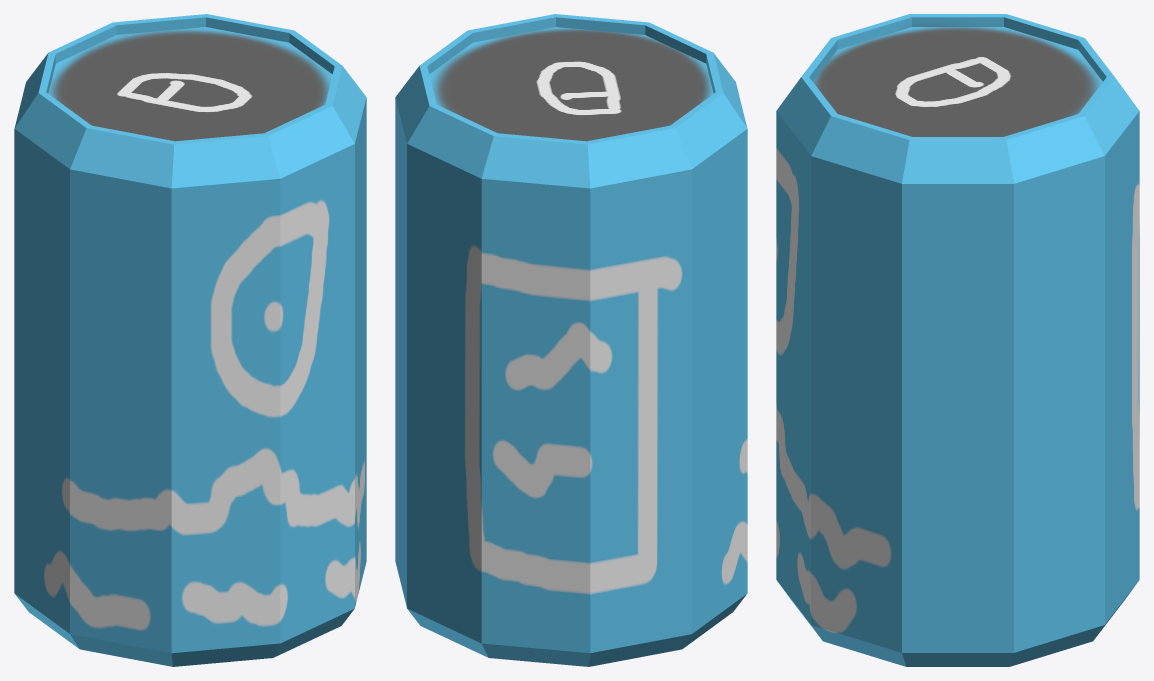
File: can.fbx
3 views of the same model, side by side, from view 1: azimuth 30°, elevation 25°; view 2: azimuth 150°, elevation 25°; view 3: azimuth 270°, elevation 25° (orthographic).
Parts seen in each view (by area): view 1: Cylinder; view 2: Cylinder; view 3: Cylinder.
Part boxes in pixels (box(x1,y1,x2,y2)): Cylinder: box(14, 14, 366, 666); Cylinder: box(395, 14, 747, 666); Cylinder: box(776, 14, 1139, 666).
Size of the model in its own units: 120 by 200 by 126.
